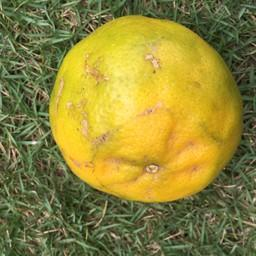Bad_orange: (50, 15, 240, 203)
